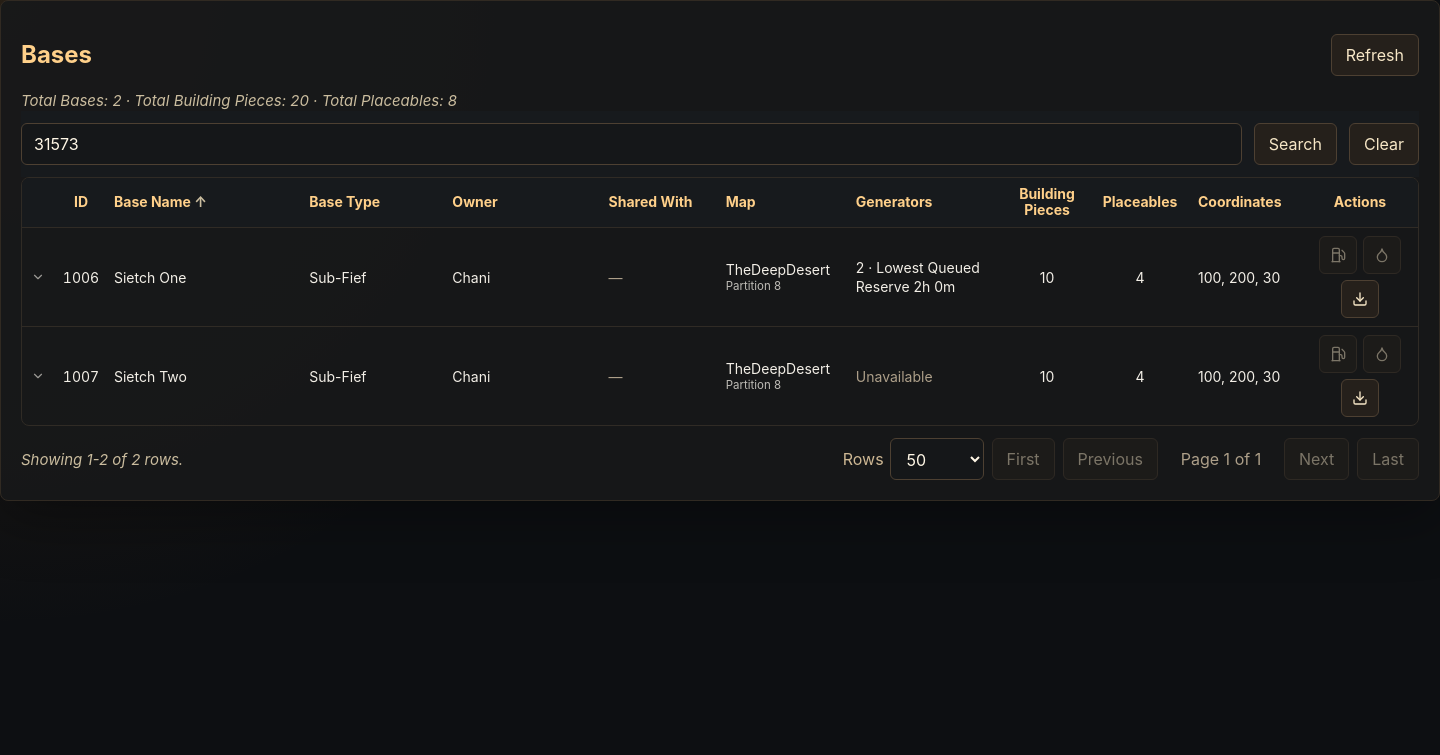
Test: BasesPanel generator details › keeps fuel and spice generators separate and distinguishes unavailable data
This screenshot has width=1440, height=755.
expect the text "2 · Lowest Queued Reserve 2h 0m" is shown: met, box [856,258,1000,297]
expect the column heading "Base Name ↑" is shown: met, box [108,178,303,228]
Click the button named "Show details for Sietch One": [38, 277] box [26,265,50,289]
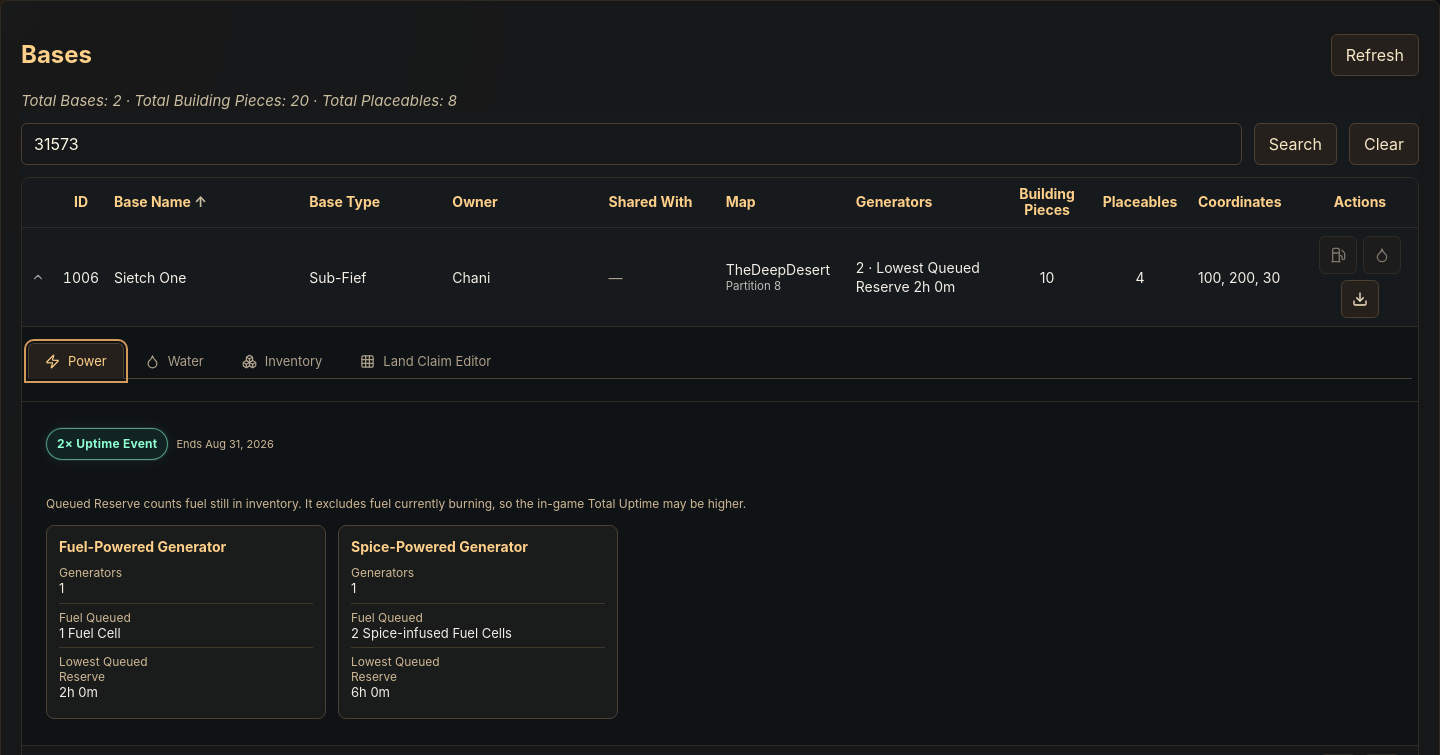
expect the text "Fuel-Powered Generator" is shown: met, box [59,538,226,555]
expect the text "Spice-Powered Generator" is shown: met, box [351,538,528,555]
expect the number of elements with class "bases-card" is 2: met, box [46,525,326,719]; [338,525,618,719]
